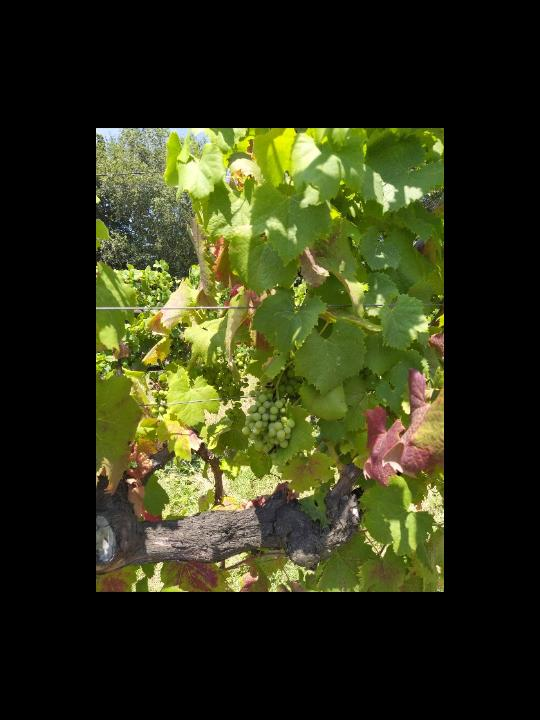grape: (241, 361, 305, 456), (197, 359, 249, 425)
